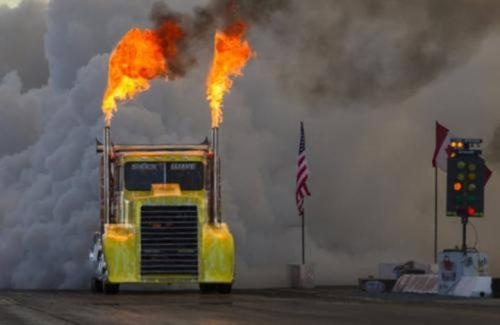fire: (102, 21, 183, 121), (203, 27, 252, 126)
